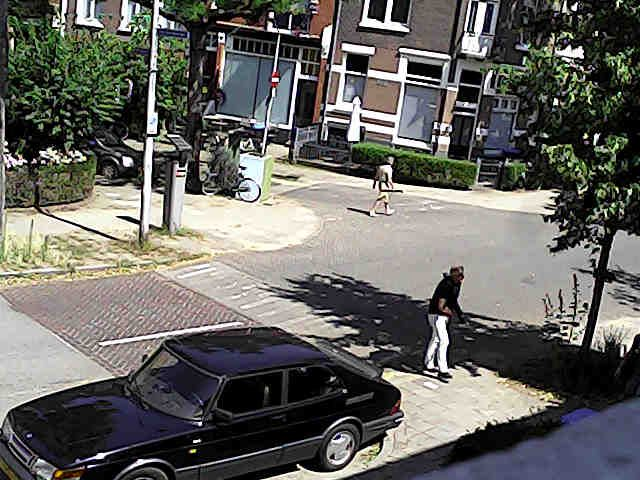male: (424, 265, 464, 380), (615, 334, 639, 397), (369, 156, 394, 216)
suv: (0, 327, 402, 479)
